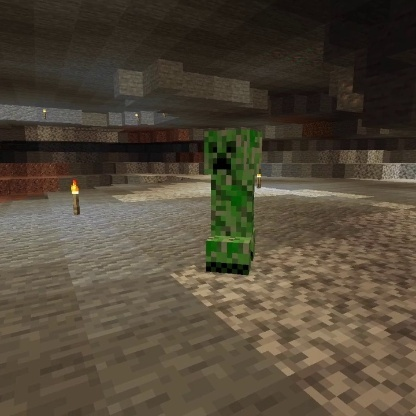creeper: (199, 127, 266, 278)
